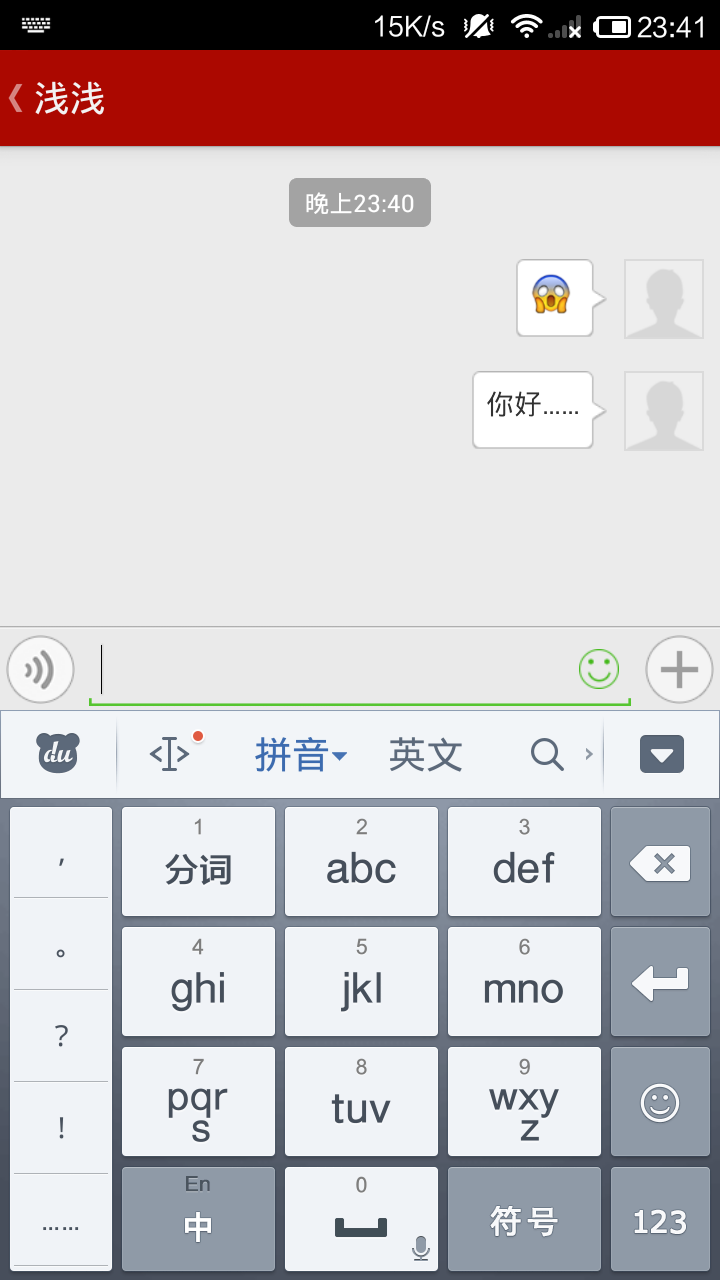alert: (269, 169, 446, 237)
textview: (75, 637, 639, 709), (446, 366, 614, 456)
